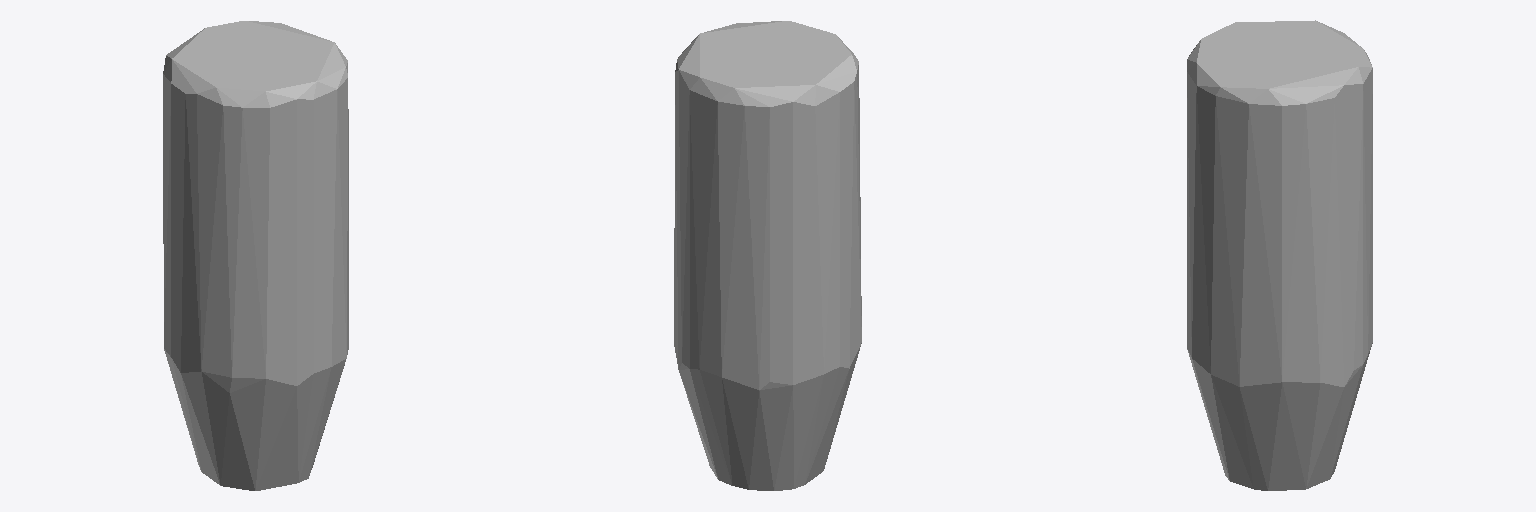
The robot description file, URDF, robot "root":
<robot name="root"><link name="link_milkbottle_0000"><inertial><origin rpy="0 0 0" xyz="0 0 0" /><mass value="8.84E-01" /><inertia ixx="9.73E-04" ixy="-8.84E-08" ixz="-2.05E-07" iyy="9.73E-04" iyz="6.87E-07" izz="2.26E-04" /></inertial><visual><origin rpy="0 0 0" xyz="0 0 0" /><geometry><mesh filename="package://milkbottle/milkbottle_0000.obj" /></geometry><material name=""><color rgba="0.75 0.75 0.75 1" /></material></visual><collision><origin rpy="0 0 0" xyz="0 0 0" /><geometry><mesh filename="package://milkbottle/milkbottle_0000.obj" /></geometry></collision></link></robot>

--- What the picture shows (computed from the rendered views, not written in the file) ---
3 views of the same robot in one strip: view 1: azimuth 30°, elevation 25°; view 2: azimuth 150°, elevation 25°; view 3: azimuth 270°, elevation 25° (orthographic).
Model root with 1 links and 0 joints (none), rooted at link_milkbottle_0000, posed all joints at 0.
Visible links, largest first — view 1: link_milkbottle_0000; view 2: link_milkbottle_0000; view 3: link_milkbottle_0000.
Link boxes in pixels (<box>): link_milkbottle_0000: <box>163,21,348,490</box>; link_milkbottle_0000: <box>674,21,861,490</box>; link_milkbottle_0000: <box>1187,20,1372,490</box>.
Bounding box of the posed robot: 0.0467 × 0.0467 × 0.115 m (x, y, z).
Meshes: 1 distinct files referenced, 1 mesh visuals loaded (1 OBJ).